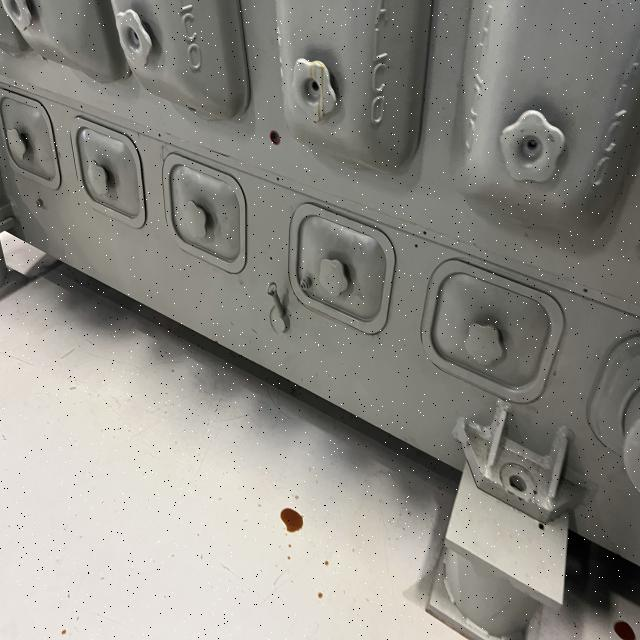Oil Leak: (283, 50, 345, 129), (277, 503, 307, 536), (317, 592, 323, 598)
